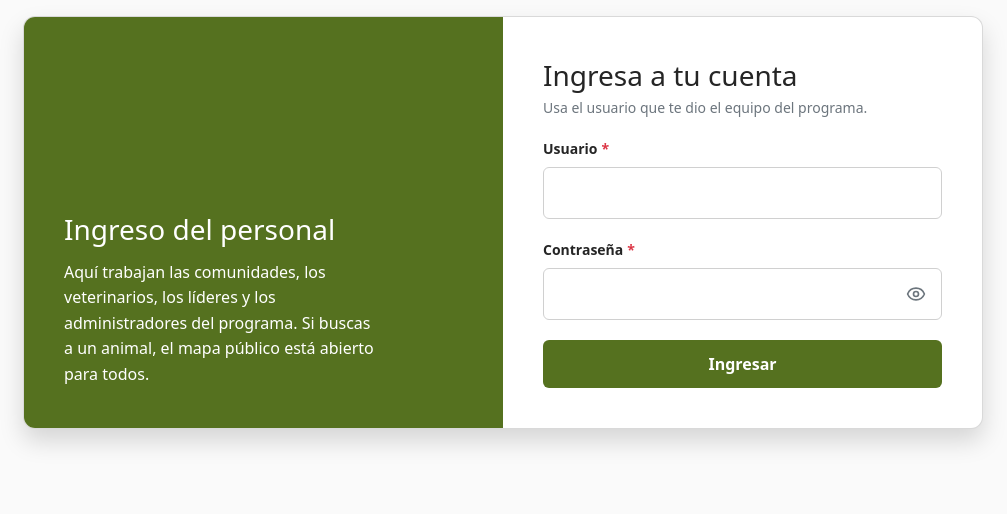
Scenario: PaginaIngreso › pide usuario y contraseña antes de enviar
This screenshot has width=1007, height=514.
Click the button "Ingresar".
click(742, 364)  # box [543,340,942,388]
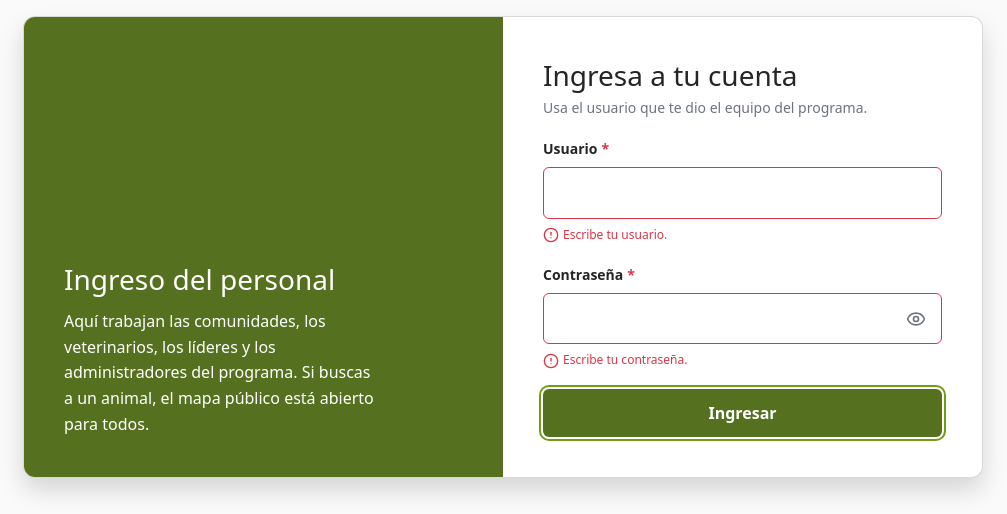
Expected: the text "Escribe tu usuario." is shown, [543,226,667,243]
Expected: the text "Escribe tu contraseña." is shown, [543,351,688,369]
